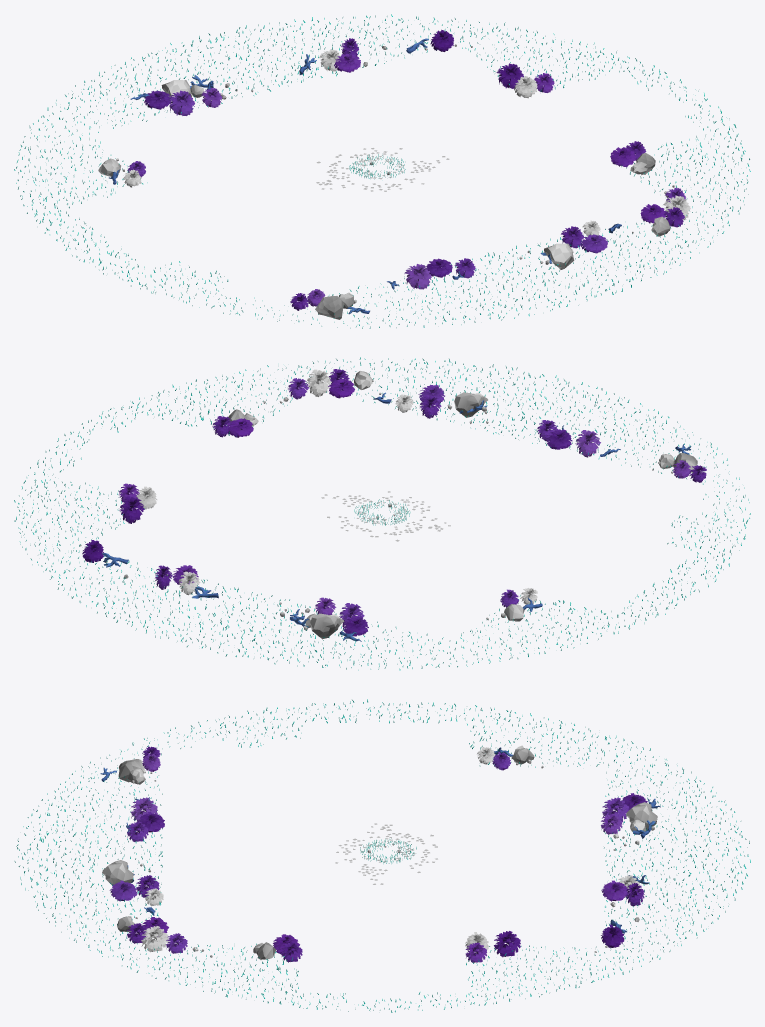
File: Crossing_Plants.fbx
The picture shows the model from 3 angles, top to bottom: view 1: azimuth 30°, elevation 25°; view 2: azimuth 150°, elevation 25°; view 3: azimuth 270°, elevation 25°; orthographic projection.
Parts seen in each view (by area): view 1: Crossing_Plants; view 2: Crossing_Plants; view 3: Crossing_Plants.
Boxes of the visible parts, x1,y1,x2,y2 form: Crossing_Plants: (14, 14, 750, 328); Crossing_Plants: (14, 357, 750, 670); Crossing_Plants: (14, 699, 750, 1012).
Bounding box in the file's own units: 420 × 17.55 × 421.
